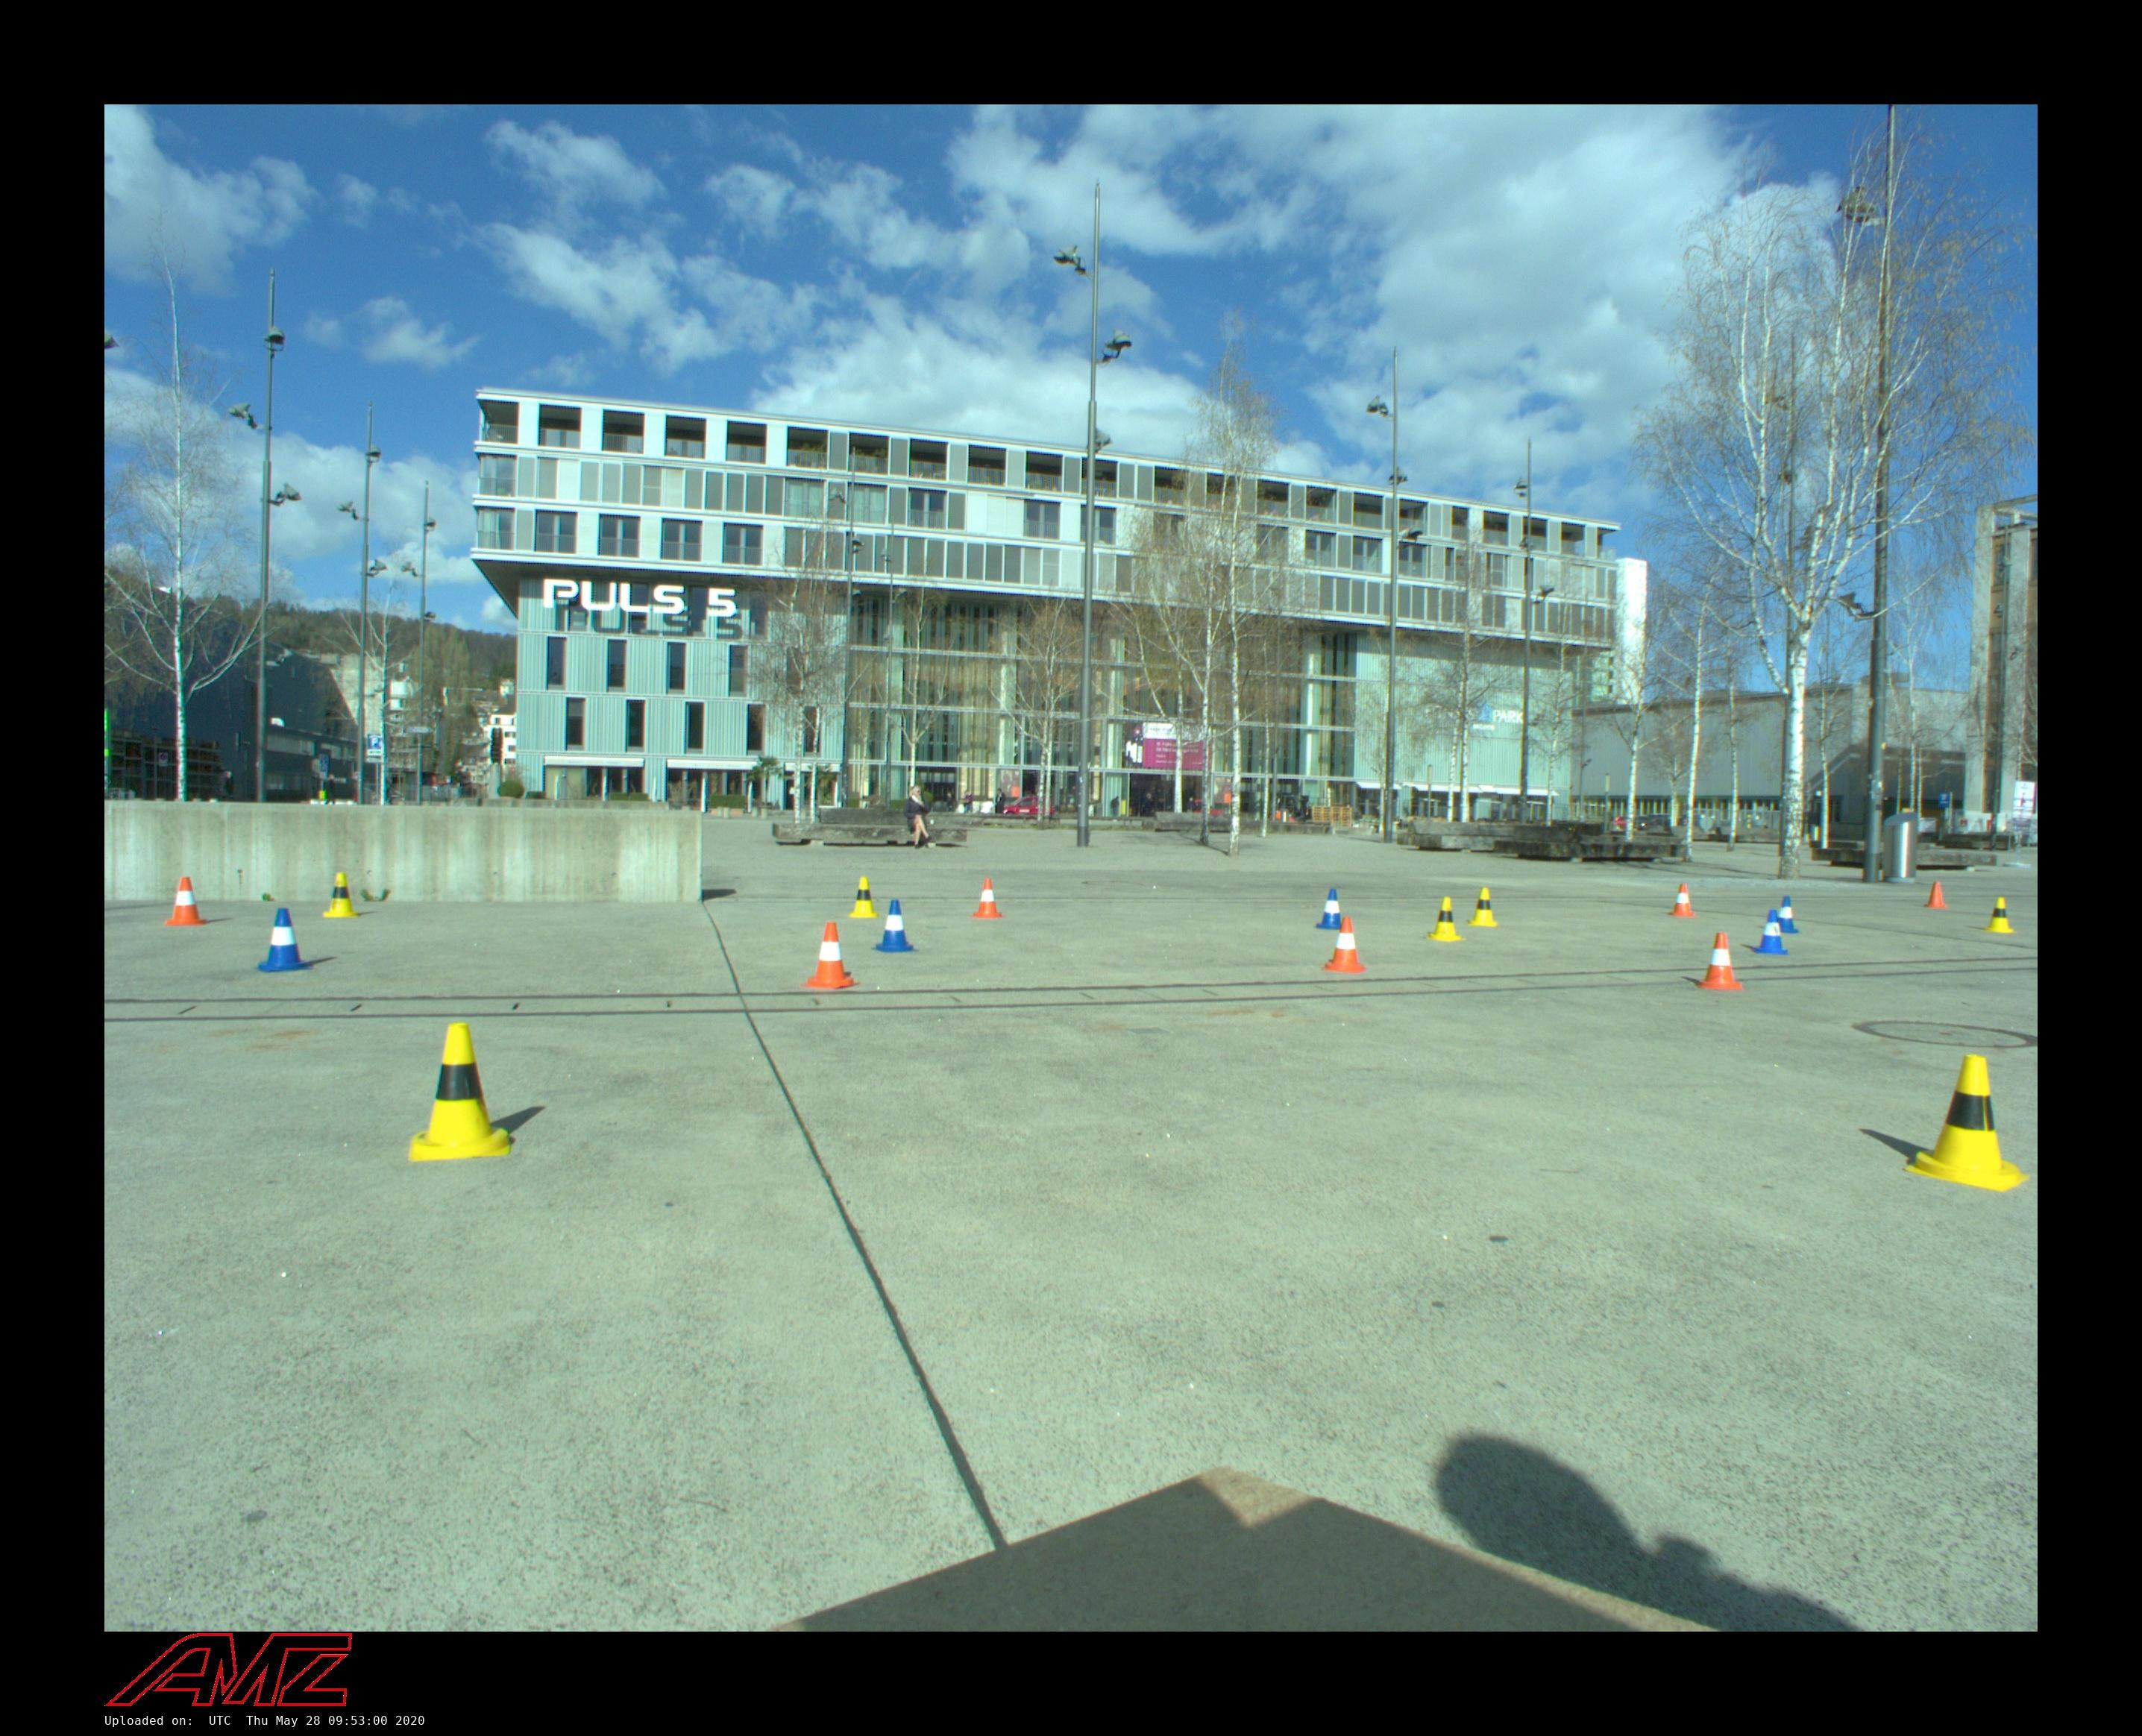blue_cone: (257, 909, 312, 973), (873, 900, 918, 953), (1752, 911, 1788, 955), (1315, 889, 1348, 930), (1773, 896, 1798, 934)
orange_cone: (803, 921, 859, 990), (1694, 932, 1743, 990), (1325, 916, 1368, 974), (167, 877, 207, 925), (971, 879, 1005, 919), (1671, 884, 1696, 918), (1926, 882, 1949, 909)
yellow_cone: (1903, 1052, 2029, 1192), (409, 1022, 508, 1160), (1424, 896, 1465, 941), (322, 873, 358, 919), (1467, 887, 1499, 926), (849, 877, 879, 918), (1984, 896, 2014, 934)
